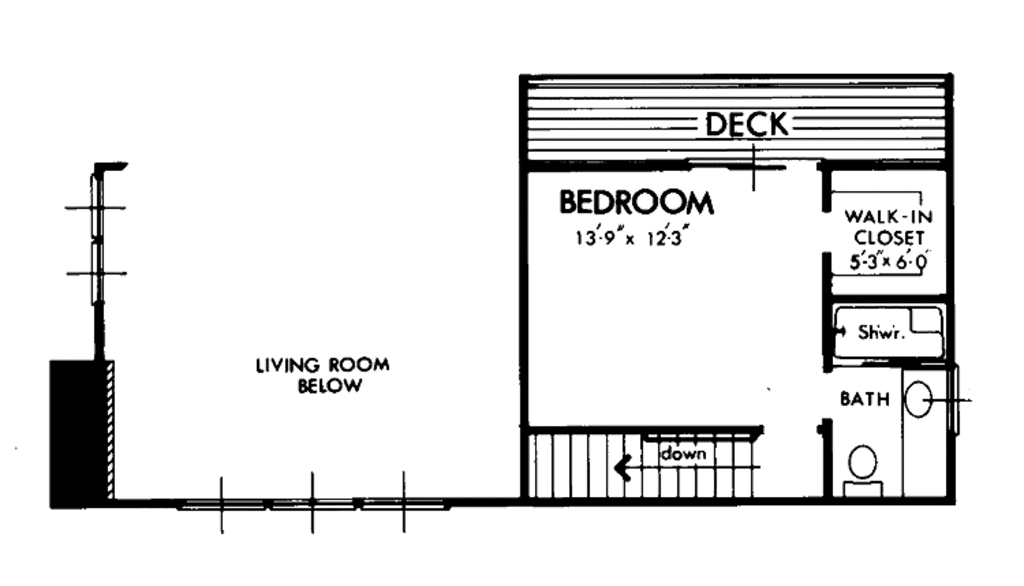large_sink: (839, 433, 889, 506)
small_sink: (903, 367, 947, 423)
stairs: (520, 416, 773, 508)
